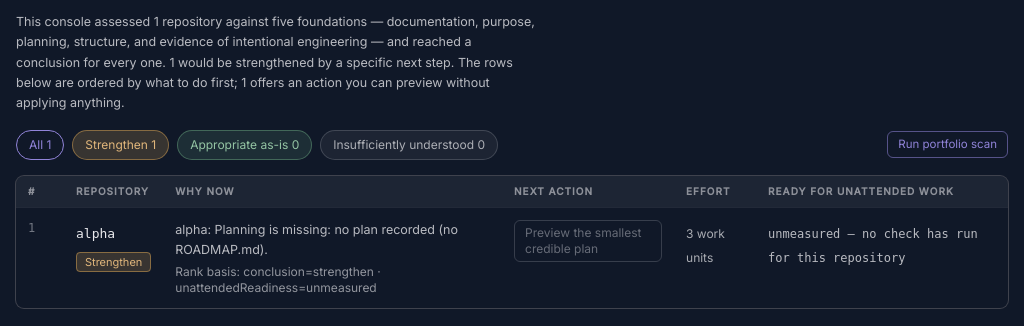
Test case: TodayView — the toolbar offers the portfolio scan › starts the scan and says the ranking will refresh
The width and height of the screenshot is (1024, 326).
What coordinates should you click on to do the following:
click the button "Run portfolio scan"
I would click on:
 (948, 145)
Its box is top-left (887, 131), bottom-right (1008, 158).
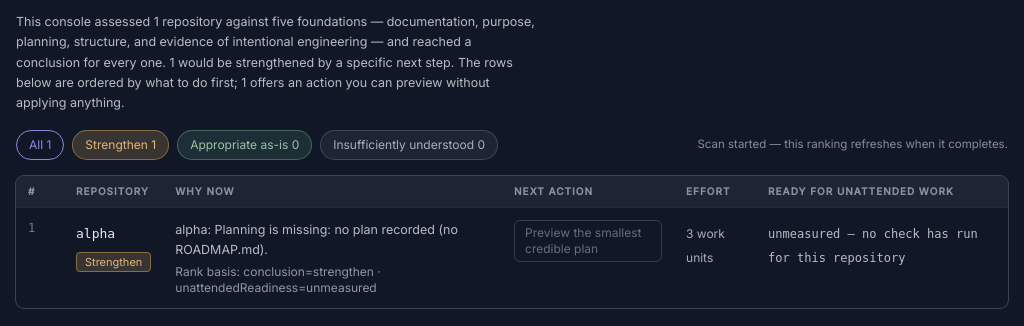
Check: the text with test id "today-scan-note" shows "Scan started", box top-left (698, 137), bottom-right (1008, 151)
Check: the button "Run portfolio scan" is gone
